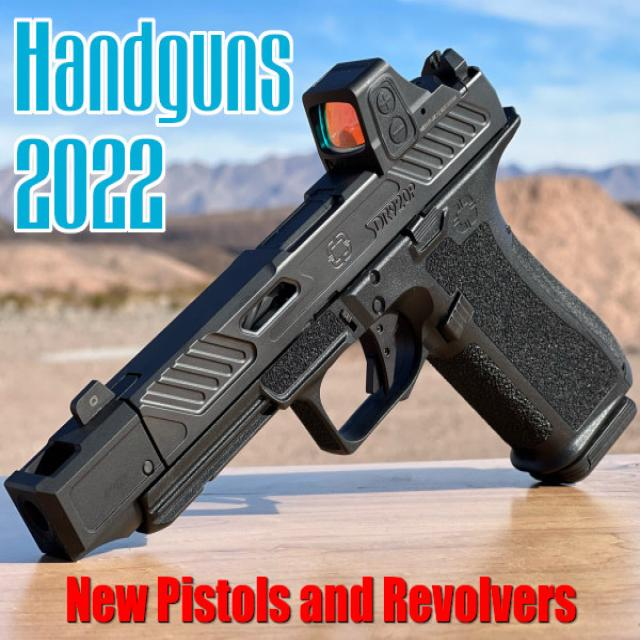HandGun: (4, 51, 640, 564)
